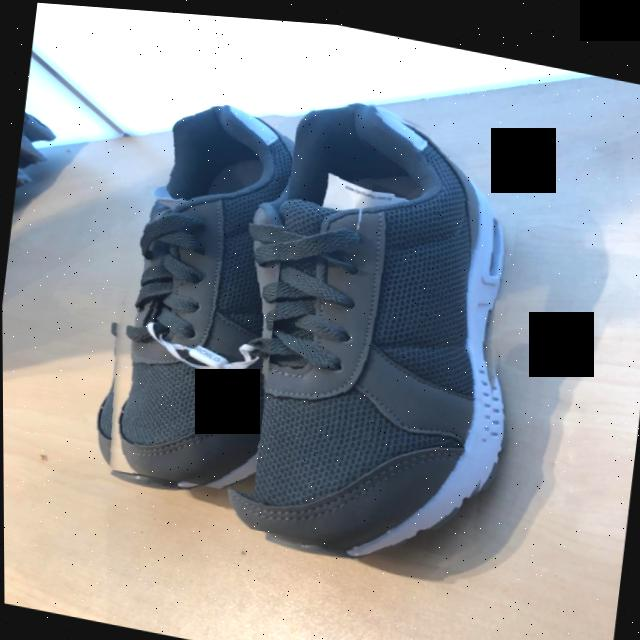shoe: (225, 100, 502, 538), (108, 102, 294, 481)
